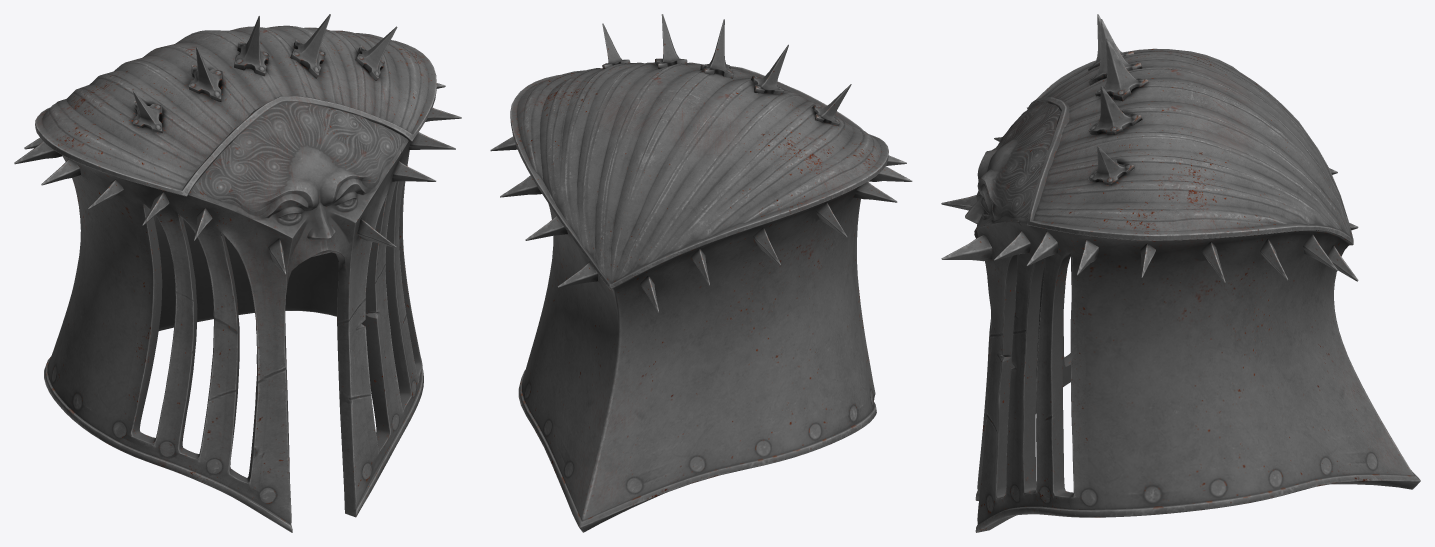
Rendered from medieval_helmet_with_spikes.glb.
The picture shows the model from 3 angles, left to right: view 1: azimuth 30°, elevation 25°; view 2: azimuth 150°, elevation 25°; view 3: azimuth 270°, elevation 25°; orthographic projection. The views are drawn at different scales.
Visible parts, largest first — view 1: Cube.017; view 2: Cube.017; view 3: Cube.017.
Part boxes in pixels (x1=…): Cube.017: x1=14, y1=14, x2=461, y2=532; Cube.017: x1=490, y1=14, x2=912, y2=532; Cube.017: x1=941, y1=14, x2=1420, y2=532.
Bounding box in the file's own units: 0.329 × 0.3599 × 0.3275.
1 material, 1 textured.
